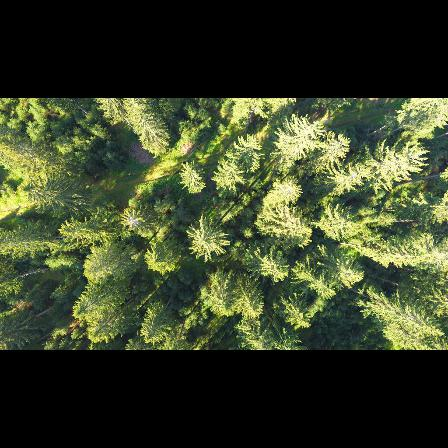Sick: (120, 207, 148, 231)
